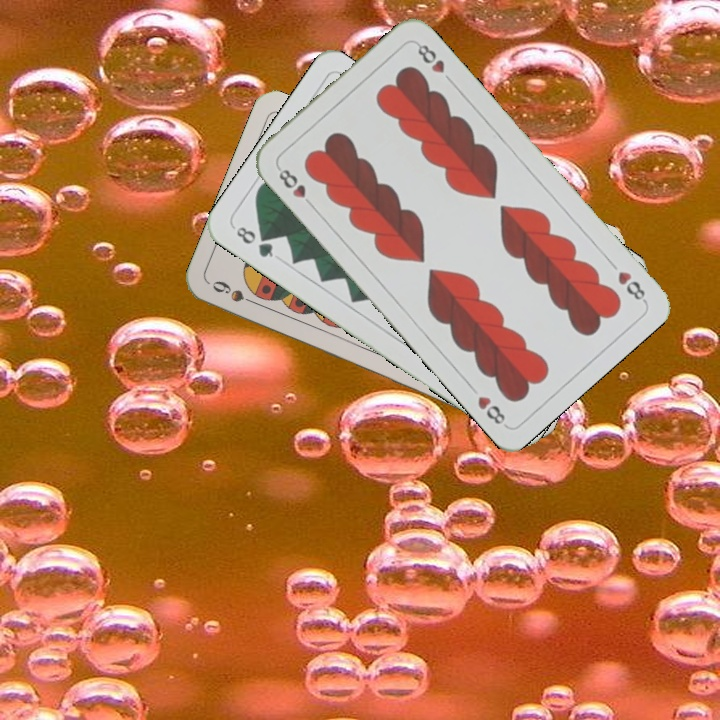G8: (232, 222, 276, 260)
H8: (273, 162, 317, 211), (614, 267, 649, 305)
S9: (208, 276, 264, 309)
